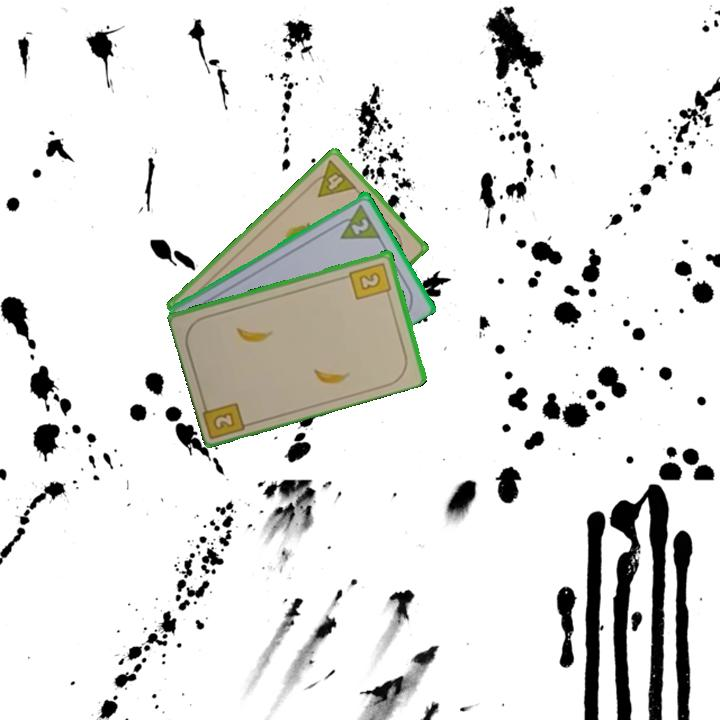2b: (346, 259, 394, 302), (210, 408, 238, 433)
2p: (347, 214, 372, 237)
4p: (305, 156, 360, 200)
